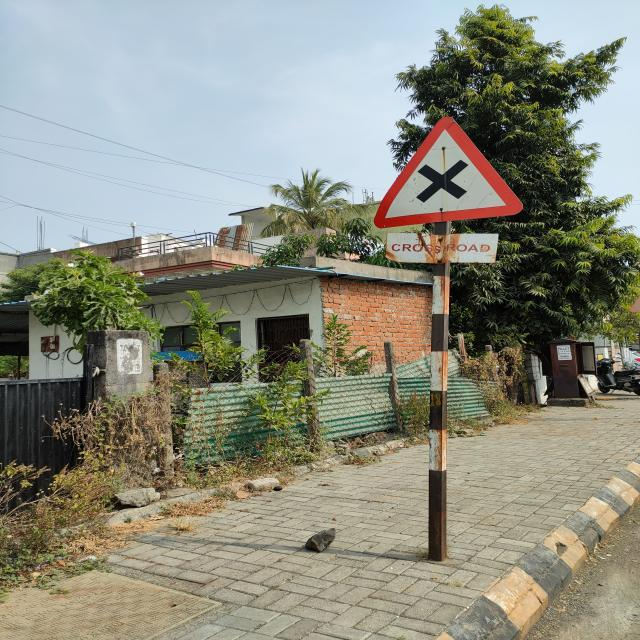cross road: (368, 111, 525, 231)
